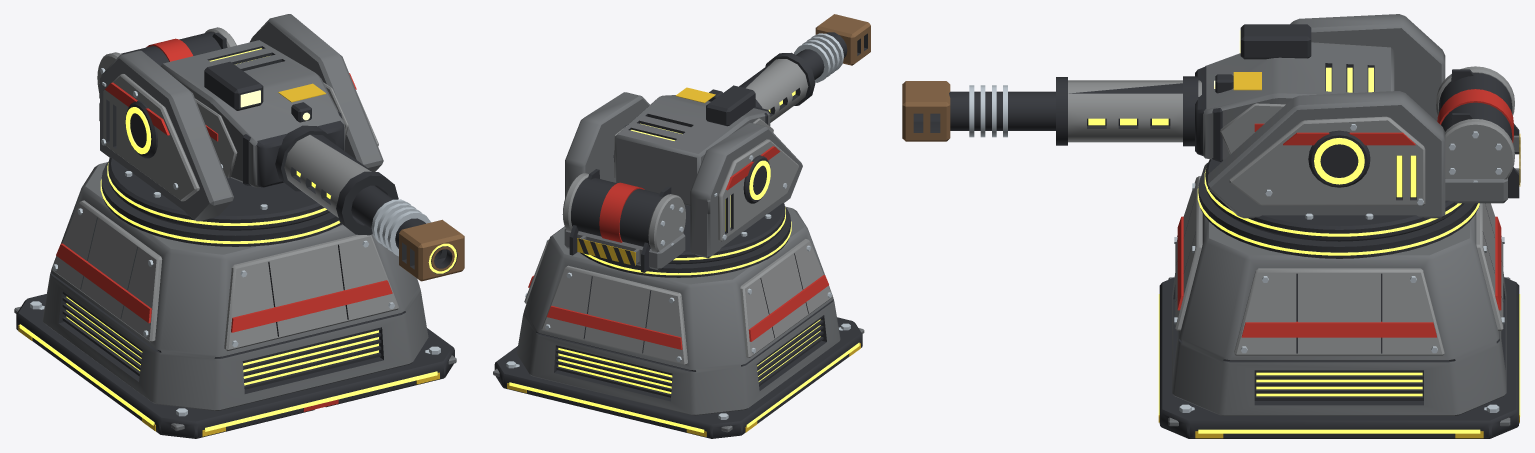
The model's file is R4W_Basic.fbx.
The picture shows the model from 3 angles, left to right: view 1: azimuth 30°, elevation 25°; view 2: azimuth 150°, elevation 25°; view 3: azimuth 270°, elevation 25°; orthographic projection. The views are drawn at different scales.
Visible parts, largest first — view 1: R4W_Basic_Base, R4W_Basic_Yaw, R4W_Basic_Pitch, R4W_Basic_Barrel; view 2: R4W_Basic_Base, R4W_Basic_Yaw, R4W_Basic_Pitch, R4W_Basic_Barrel; view 3: R4W_Basic_Base, R4W_Basic_Yaw, R4W_Basic_Pitch, R4W_Basic_Barrel.
Boxes of the visible parts, x1=… form: R4W_Basic_Base: x1=14, y1=161, x2=456, y2=438; R4W_Basic_Yaw: x1=97, y1=14, x2=383, y2=230; R4W_Basic_Pitch: x1=160, y1=40, x2=398, y2=235; R4W_Basic_Barrel: x1=351, y1=185, x2=464, y2=281; R4W_Basic_Base: x1=493, y1=206, x2=864, y2=438; R4W_Basic_Yaw: x1=562, y1=92, x2=802, y2=272; R4W_Basic_Pitch: x1=614, y1=52, x2=815, y2=205; R4W_Basic_Barrel: x1=794, y1=14, x2=870, y2=82; R4W_Basic_Base: x1=1158, y1=163, x2=1520, y2=438; R4W_Basic_Yaw: x1=1204, y1=14, x2=1520, y2=241; R4W_Basic_Pitch: x1=1056, y1=24, x2=1394, y2=161; R4W_Basic_Barrel: x1=902, y1=81, x2=1170, y2=141.
Size of the model in its own units: 0.513 by 0.496 by 0.8812.
